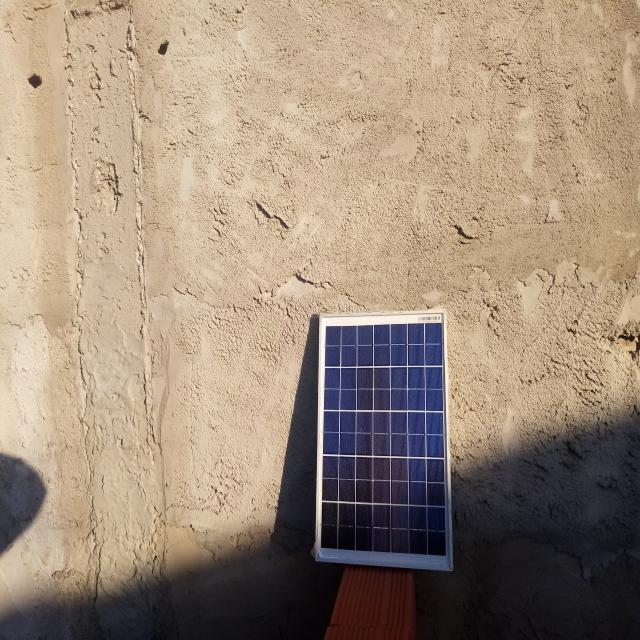no faulty: (317, 310, 452, 570)
